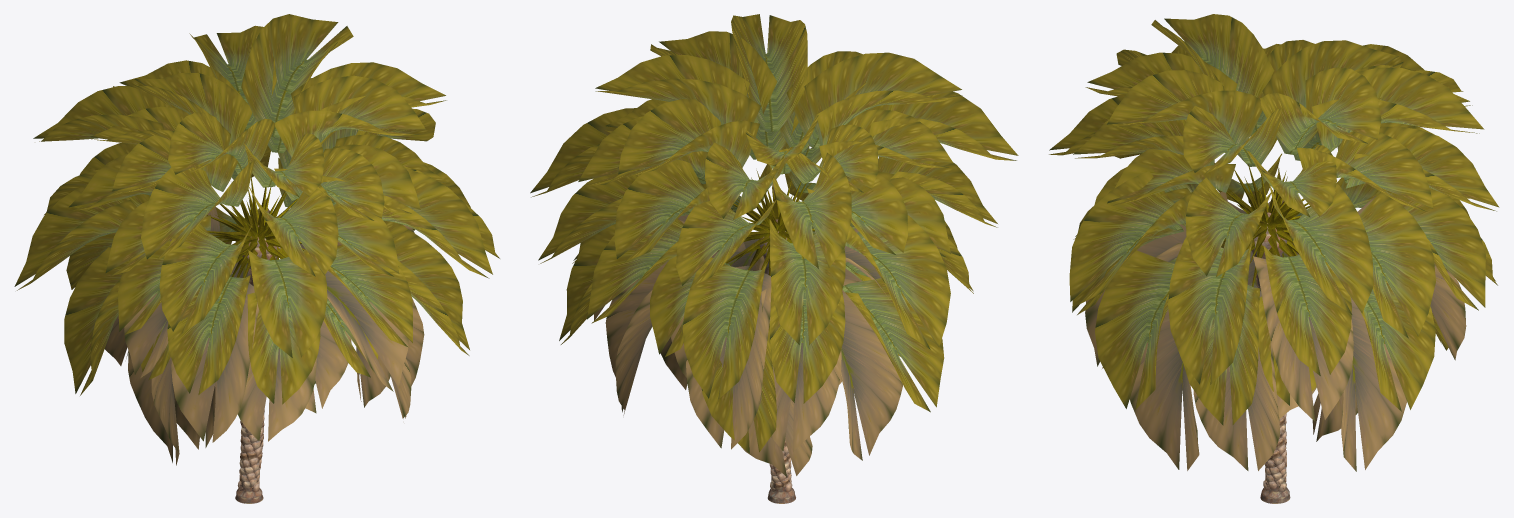
Rendered from palm4_tree 1.fbx.
3 views of the same model, side by side, from view 1: azimuth 30°, elevation 25°; view 2: azimuth 150°, elevation 25°; view 3: azimuth 270°, elevation 25° (orthographic). The views are drawn at different scales.
Visible parts, largest first — view 1: date palm leaf1_3, date palm leaf2_4, frond stem_1, palm bark_2, palm06_0; view 2: date palm leaf1_3, date palm leaf2_4, frond stem_1, palm bark_2; view 3: date palm leaf1_3, date palm leaf2_4, frond stem_1, palm bark_2, palm06_0.
Part boxes in pixels (bbox=[...]): date palm leaf1_3: bbox=[14, 14, 499, 404]; date palm leaf2_4: bbox=[105, 204, 424, 465]; frond stem_1: bbox=[207, 176, 304, 277]; palm bark_2: bbox=[237, 410, 264, 492]; palm06_0: bbox=[235, 225, 280, 503]; date palm leaf1_3: bbox=[530, 14, 1018, 453]; date palm leaf2_4: bbox=[594, 183, 902, 476]; frond stem_1: bbox=[725, 170, 814, 275]; palm bark_2: bbox=[769, 441, 792, 492]; date palm leaf1_3: bbox=[1049, 14, 1499, 425]; date palm leaf2_4: bbox=[1085, 191, 1466, 471]; frond stem_1: bbox=[1221, 164, 1310, 286]; palm bark_2: bbox=[1263, 413, 1286, 492]; palm06_0: bbox=[1251, 212, 1290, 503].
Size of the model in its own units: 482 by 483 by 435.
Materials: 5 (5 with a texture image).
